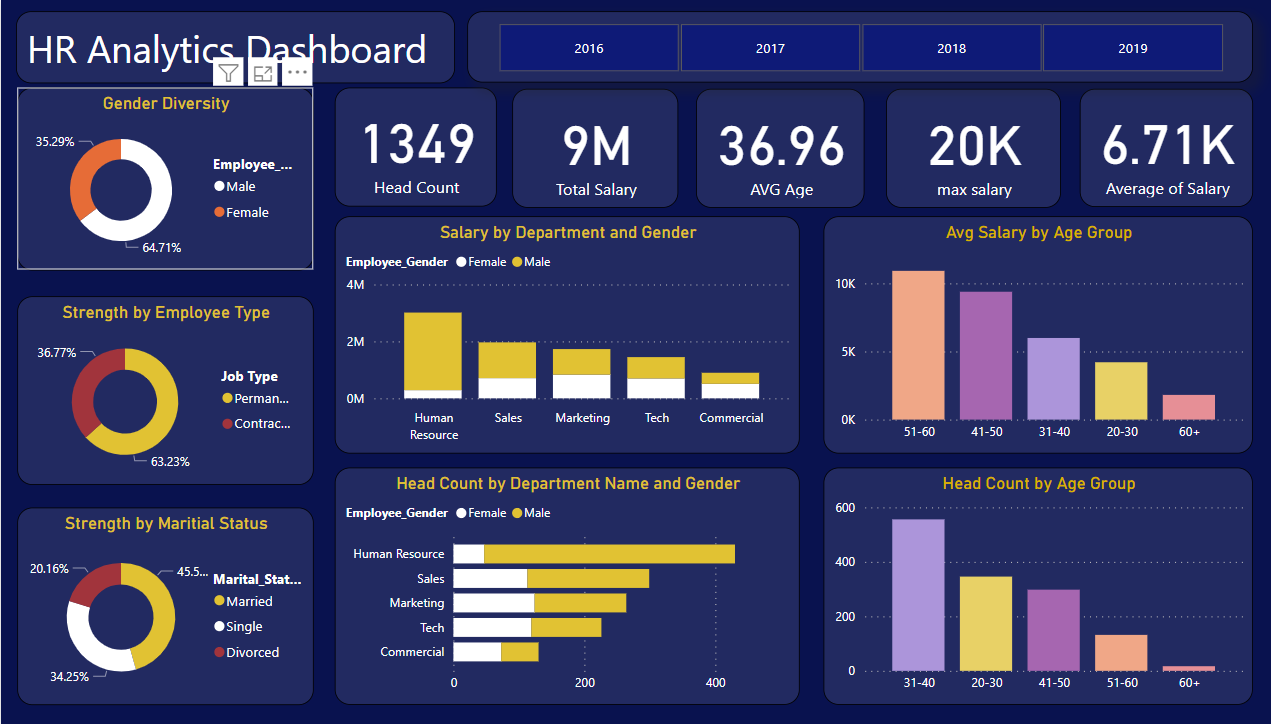

Layout of this report page (visuals, bound fields, positions):
{"tool":"powerbi","page":{"name":"HRAnalytics","canvas":[1280,720],"ordinal":0},"visuals":[{"type":"card","fields":{"Values":["HRDATASETFULL.Head Count"]},"box":[329.3,86.2,159.7,117.3],"z":0},{"type":"card","fields":{"Values":["Sum(HRDATASETFULL.Salary)"]},"box":[504.6,87.6,164,117.3],"z":1000},{"type":"card","fields":{"Values":["Avg(HRDATASETFULL.Age)"]},"box":[686.9,87.6,166.8,117.3],"z":2000},{"type":"card","fields":{"Values":["HRDATASETFULL.max salary"]},"box":[873.5,87.6,172.4,117.3],"z":3000},{"type":"card","fields":{"Values":["Avg(HRDATASETFULL.Salary)"]},"box":[1065.3,87.7,171.4,116.5],"z":4000},{"type":"textbox","box":[15.1,11,433.3,71.3],"z":5000},{"type":"donutChart","title":"Gender Diversity","fields":{"Y":["HRDATASETFULL.Head Count"],"Category":["HRDATASETFULL.Employee_Gender"]},"box":[15.5,86.2,292.6,180.9],"z":6000},{"type":"donutChart","title":"Strength by Employee Type","fields":{"Y":["HRDATASETFULL.Head Count"],"Category":["HRDATASETFULL.Job Type"]},"box":[15.5,292.6,292.6,186.6],"z":7000},{"type":"donutChart","title":"Strength by Maritial Status","fields":{"Y":["HRDATASETFULL.Head Count"],"Category":["HRDATASETFULL.Marital_Status"]},"box":[15.5,501.8,292.6,195.1],"z":8000},{"type":"columnChart","title":"Salary by Department and Gender","fields":{"Category":["HRDATASETFULL.Department_Name"],"Y":["Sum(HRDATASETFULL.Salary)"],"Series":["HRDATASETFULL.Employee_Gender"]},"box":[329.3,213.4,459.4,234.6],"z":9000},{"type":"barChart","title":"Head Count by Department Name and Gender","fields":{"Category":["HRDATASETFULL.Department_Name"],"Y":["HRDATASETFULL.Head Count"],"Series":["HRDATASETFULL.Employee_Gender"]},"box":[329.3,462.2,459.4,234.6],"z":10000},{"type":"columnChart","fields":{"Category":["HRDATASETFULL.Age Group"],"Y":["HRDATASETFULL.Avg Salary"]},"box":[812.7,213.4,424,234.6],"z":11000},{"type":"columnChart","fields":{"Category":["HRDATASETFULL.Age Group"],"Y":["HRDATASETFULL.Head Count"]},"box":[812.7,462.2,424,234.6],"z":12000},{"type":"slicer","fields":{"Values":["HRDATASETFULL.Hireyear"]},"box":[460.8,11.3,776,70.7],"z":12001}]}

Visuals, with their boxes in screenshot pixels (x1, y1, x2, y2), scaled from the page's 1280x720 canvas onto the 1271x724 screenshot:
card - HRDATASETFULL.Head Count: bbox(327, 87, 486, 205)
card - Sum(HRDATASETFULL.Salary): bbox(501, 88, 664, 206)
card - Avg(HRDATASETFULL.Age): bbox(682, 88, 848, 206)
card - HRDATASETFULL.max salary: bbox(867, 88, 1039, 206)
card - Avg(HRDATASETFULL.Salary): bbox(1058, 88, 1228, 205)
textbox: bbox(15, 11, 445, 83)
"Gender Diversity" donutChart: bbox(15, 87, 306, 269)
"Strength by Employee Type" donutChart: bbox(15, 294, 306, 482)
"Strength by Maritial Status" donutChart: bbox(15, 505, 306, 701)
"Salary by Department and Gender" columnChart: bbox(327, 215, 783, 450)
"Head Count by Department Name and Gender" barChart: bbox(327, 465, 783, 701)
columnChart - HRDATASETFULL.Age Group x HRDATASETFULL.Avg Salary: bbox(807, 215, 1228, 450)
columnChart - HRDATASETFULL.Age Group x HRDATASETFULL.Head Count: bbox(807, 465, 1228, 701)
slicer - HRDATASETFULL.Hireyear: bbox(458, 11, 1228, 82)
